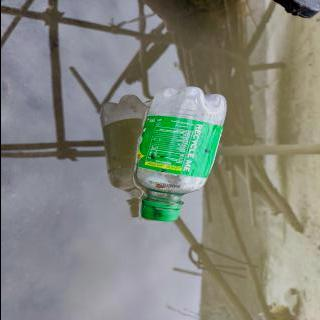bottle: (128, 85, 230, 224)
